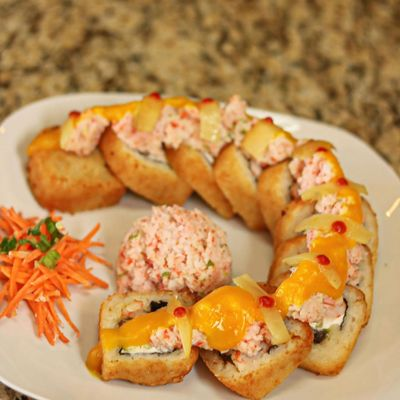soup: (87, 203, 234, 387)
